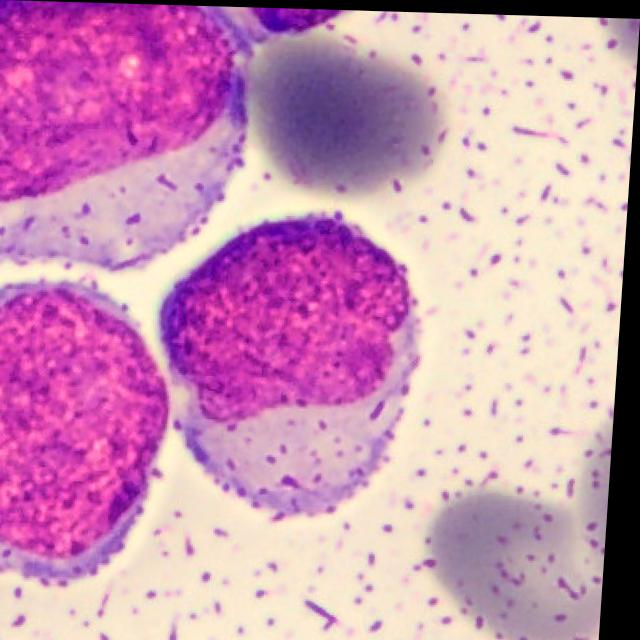Mieloblasto: (164, 213, 427, 521), (0, 0, 236, 267), (0, 283, 177, 587)
